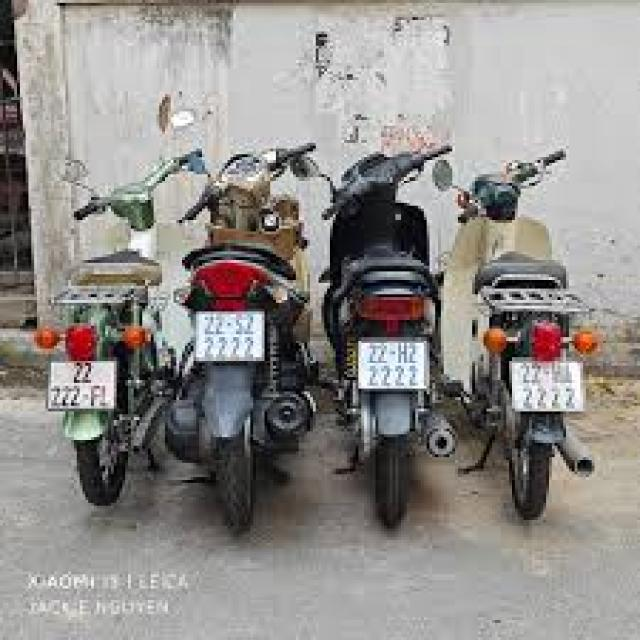bien_so: (501, 345, 599, 431), (350, 338, 444, 409), (188, 301, 274, 374), (42, 358, 142, 420)
